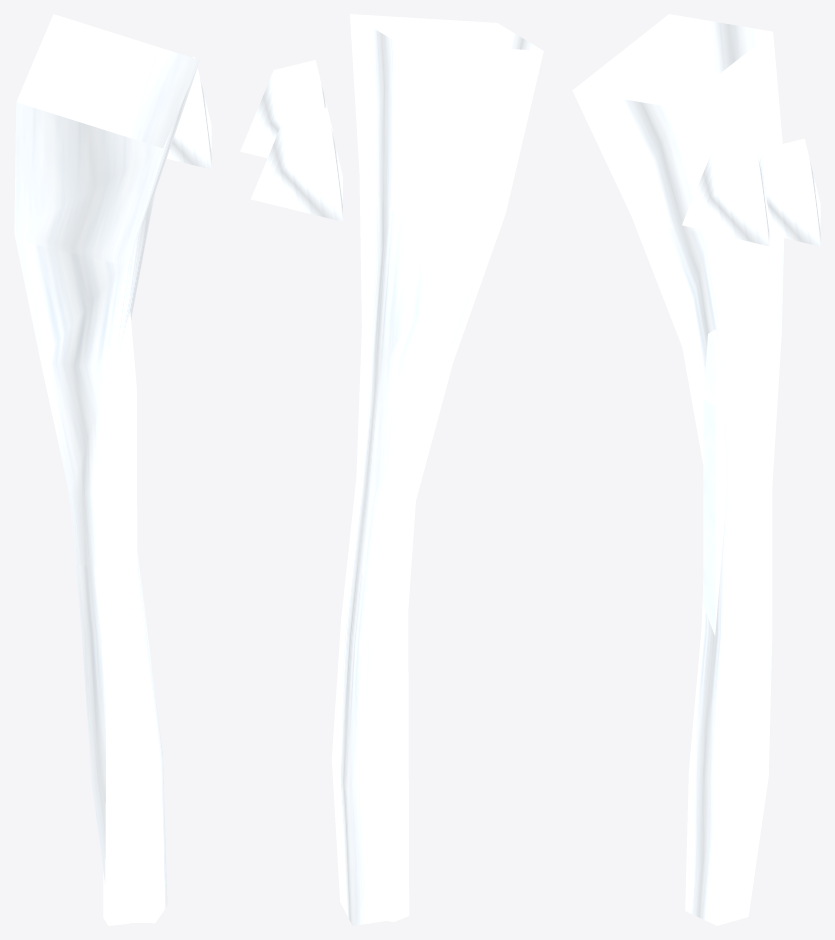
Rendered from Oracle_Light_Pillar_LOD2.gltf.
The picture shows the model from 3 angles, left to right: view 1: azimuth 30°, elevation 25°; view 2: azimuth 150°, elevation 25°; view 3: azimuth 270°, elevation 25°; orthographic projection. The views are drawn at different scales.
Visible parts, largest first — view 1: Oracle_Light_Pillar_LOD2; view 2: Oracle_Light_Pillar_LOD2; view 3: Oracle_Light_Pillar_LOD2.
Part boxes in pixels (left/top/right/bottom): Oracle_Light_Pillar_LOD2: left=14, top=14, right=211, bottom=925; Oracle_Light_Pillar_LOD2: left=240, top=14, right=543, bottom=925; Oracle_Light_Pillar_LOD2: left=572, top=14, right=820, bottom=925.
Bounding box in the file's own units: 9.71 × 33.55 × 8.79.
Materials: 2 (2 with a texture image).
